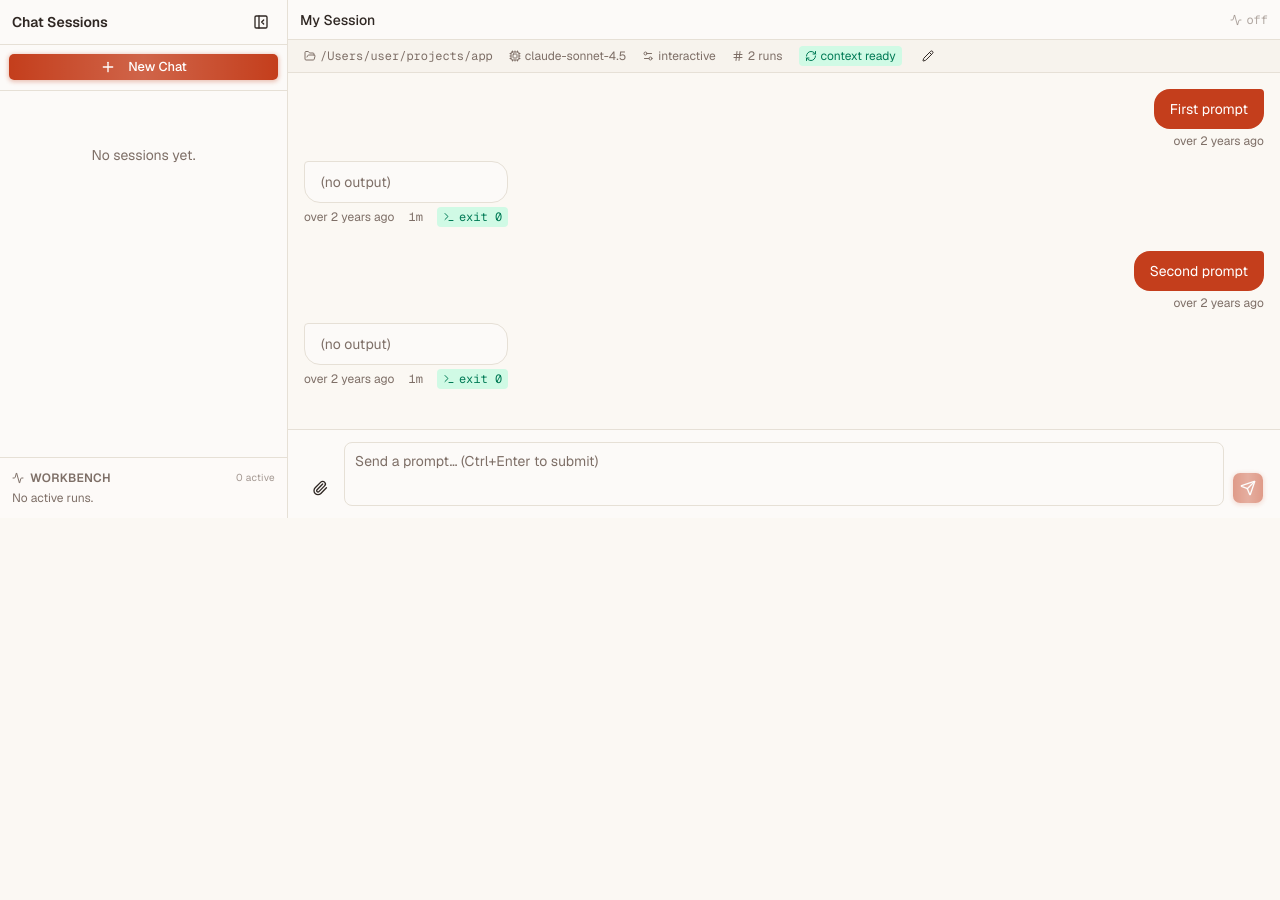
Test: WorkspacePicker — hidden-folder toggle › renders a toggle button for showing hidden folders
// Open the dialog to expose WorkspacePicker
Click the button with aria-label "New chat session": click(144, 67) [8,53,279,81]
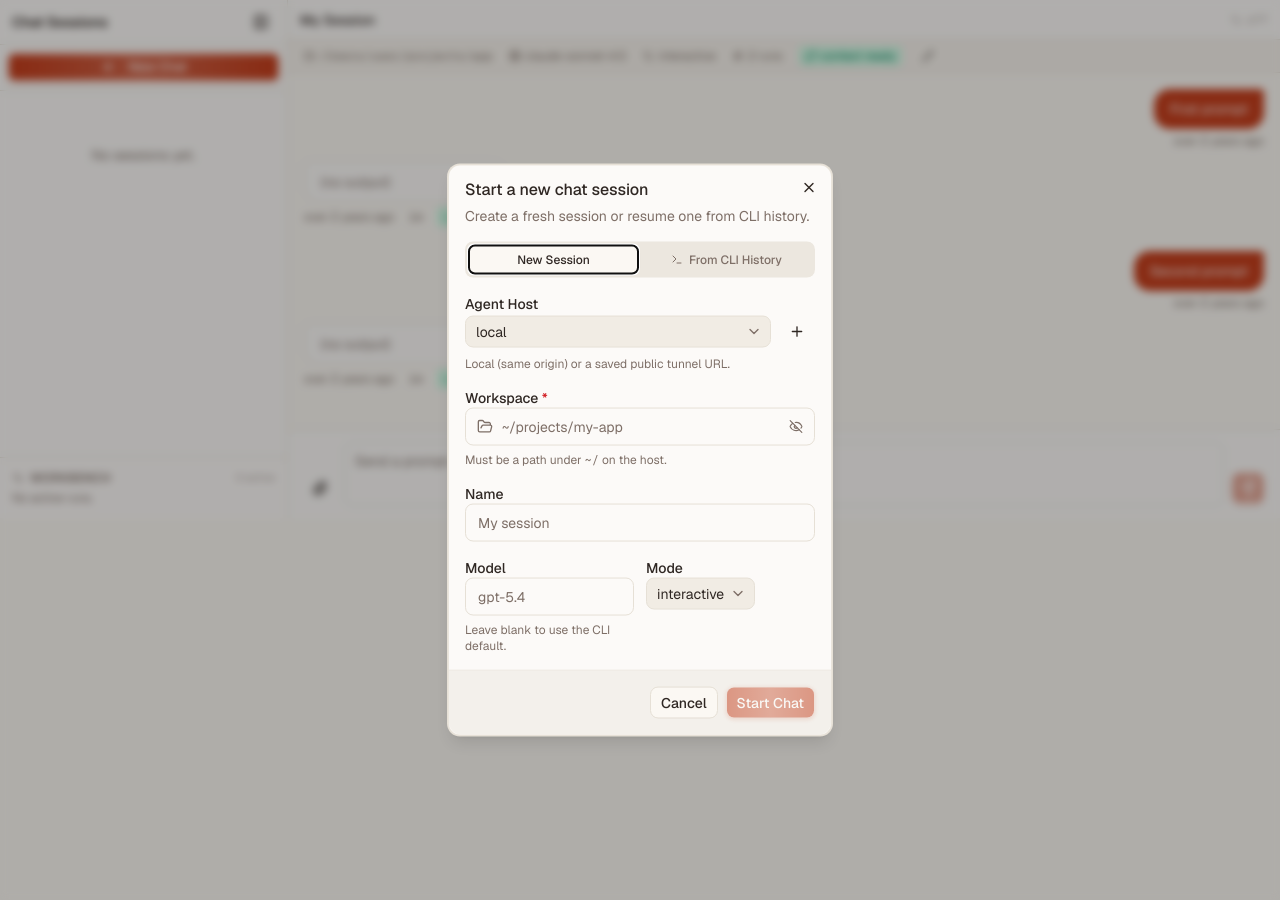
Expected: the button named "Show hidden folders" is shown, [785,416,807,438]
